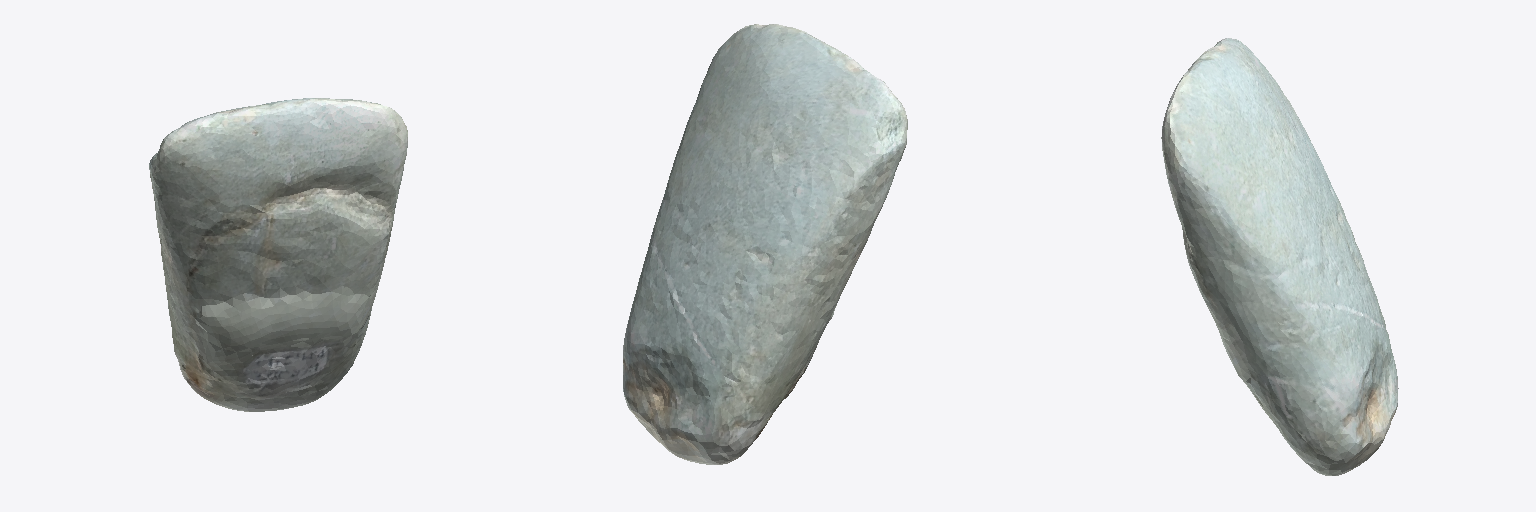
3 views of the same model, side by side, from view 1: azimuth 30°, elevation 25°; view 2: azimuth 150°, elevation 25°; view 3: azimuth 270°, elevation 25° (orthographic).
Visible parts, largest first — view 1: mmGroup0; view 2: mmGroup0; view 3: mmGroup0.
Part boxes in pixels (bbox=[...]): mmGroup0: bbox=[149, 98, 407, 411]; mmGroup0: bbox=[623, 24, 907, 464]; mmGroup0: bbox=[1161, 38, 1398, 475].
Size of the model in its own units: 0.1582 by 0.2359 by 0.1351.
Materials: 2 (2 with a texture image).